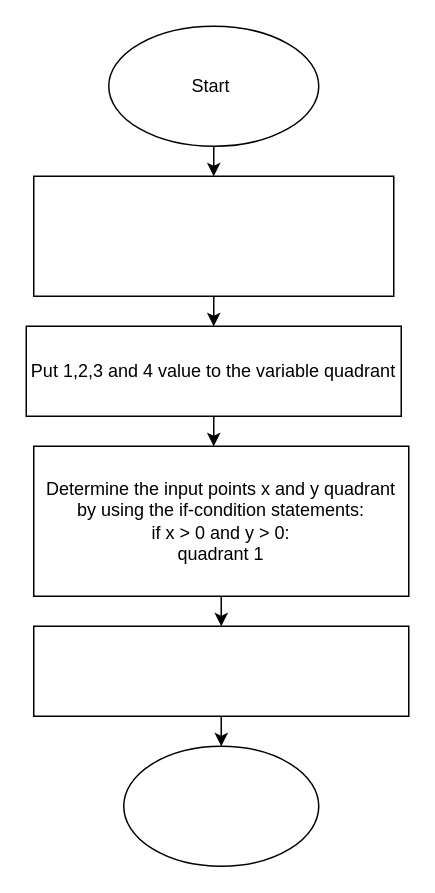
This 435x893 diagram has some shape labels left out. Each missing label, with the box of its shape:
End: (122, 745, 319, 866)
Enter two integers for the x and y coordinate values: (32, 175, 394, 296)
